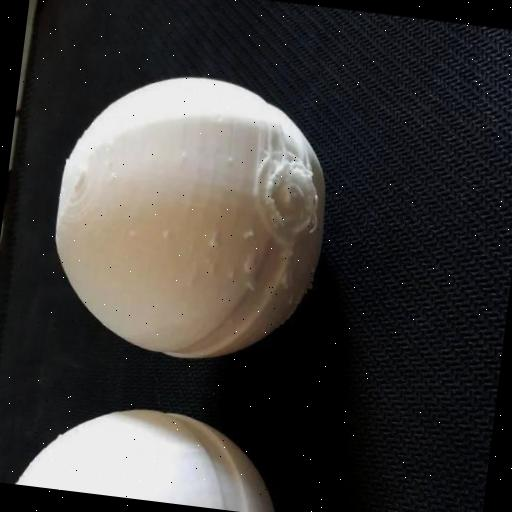blobs: (240, 257, 258, 276), (278, 271, 295, 287), (242, 226, 258, 242), (108, 166, 120, 182), (206, 235, 220, 248), (161, 225, 175, 237), (226, 268, 238, 278), (286, 246, 295, 257), (226, 154, 236, 163)
